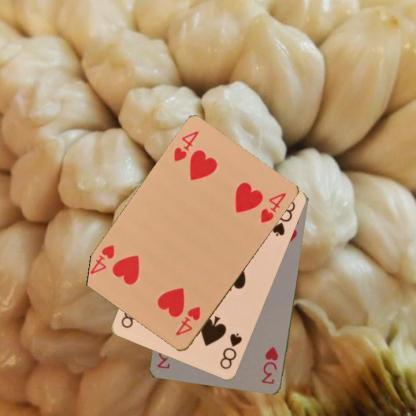3h: (258, 344, 280, 386)
4h: (171, 128, 201, 164), (172, 304, 202, 337)
8s: (217, 330, 244, 371)
